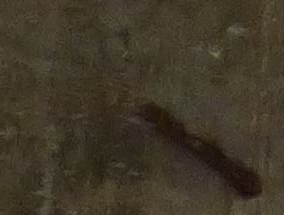Exposed reinforcement: (145, 104, 264, 201)
